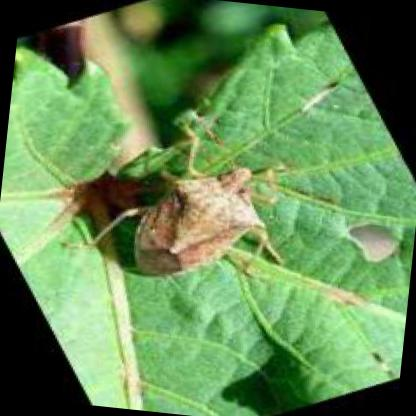ash weevil: (132, 123, 283, 276)
